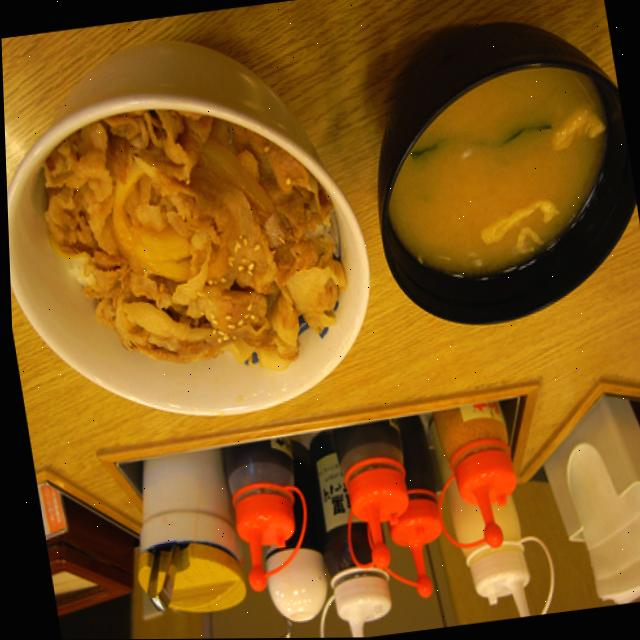汤锅炖物: (344, 40, 640, 352)
